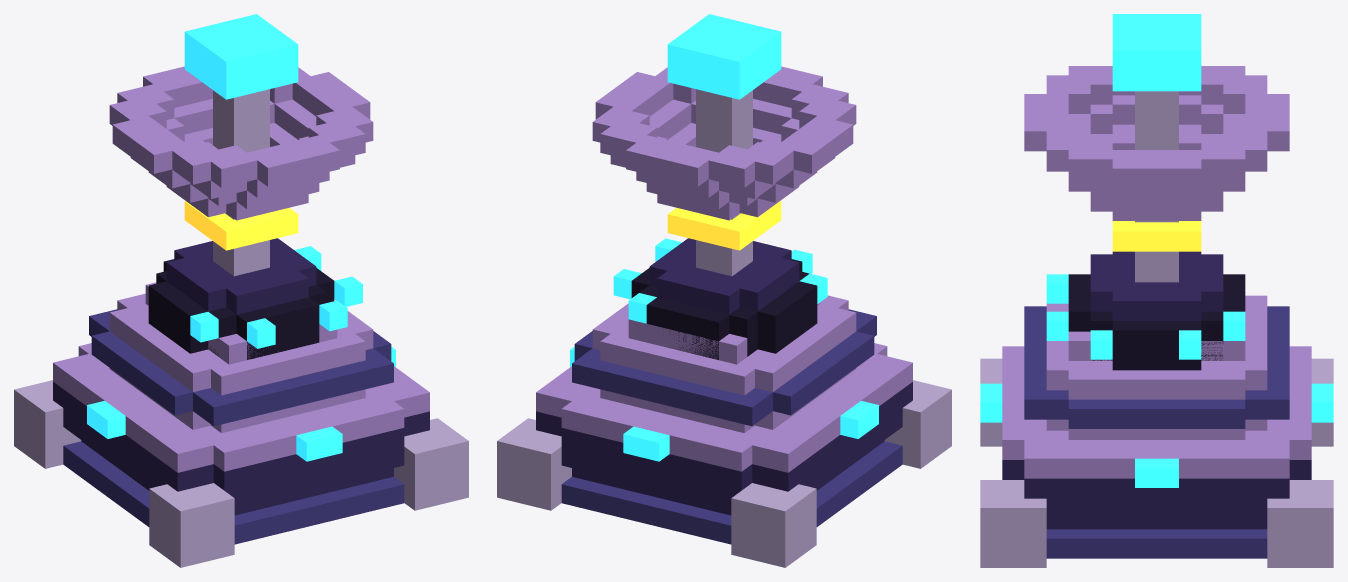
File: sensor-dish.sm.glb
3 renders of one model, left to right at view 1: azimuth 30°, elevation 25°; view 2: azimuth 150°, elevation 25°; view 3: azimuth 270°, elevation 25°, orthographic. The views are drawn at different scales.
Visible parts, largest first — view 1: sensor-dish.sm; view 2: sensor-dish.sm; view 3: sensor-dish.sm.
Boxes of the visible parts, box(x1,y1,x2,y2) form: sensor-dish.sm: box(14, 14, 468, 567); sensor-dish.sm: box(497, 14, 951, 567); sensor-dish.sm: box(980, 14, 1333, 567).
Bounding box in the file's own units: 1 × 1.44 × 1.
